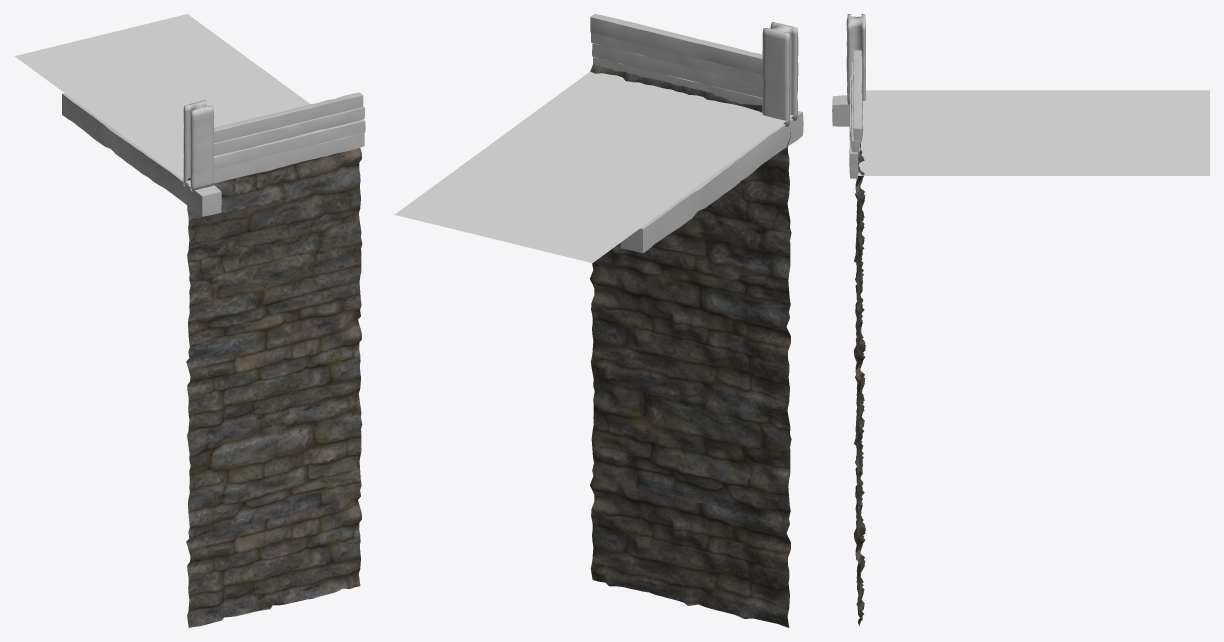
File: Steinmauer_v1_joint.fbx
The picture shows the model from 3 angles, left to right: view 1: azimuth 30°, elevation 25°; view 2: azimuth 150°, elevation 25°; view 3: azimuth 270°, elevation 25°; orthographic projection. The views are drawn at different scales.
Parts seen in each view (by area): view 1: SteinMauer_v1_joint_LOD0; view 2: SteinMauer_v1_joint_LOD0; view 3: SteinMauer_v1_joint_LOD0.
Part boxes in pixels (<box>): SteinMauer_v1_joint_LOD0: <box>14,14,365,627</box>; SteinMauer_v1_joint_LOD0: <box>394,14,803,627</box>; SteinMauer_v1_joint_LOD0: <box>832,14,1209,626</box>.
Size of what is drawn, in the model's own units: 133 by 376 by 243.
